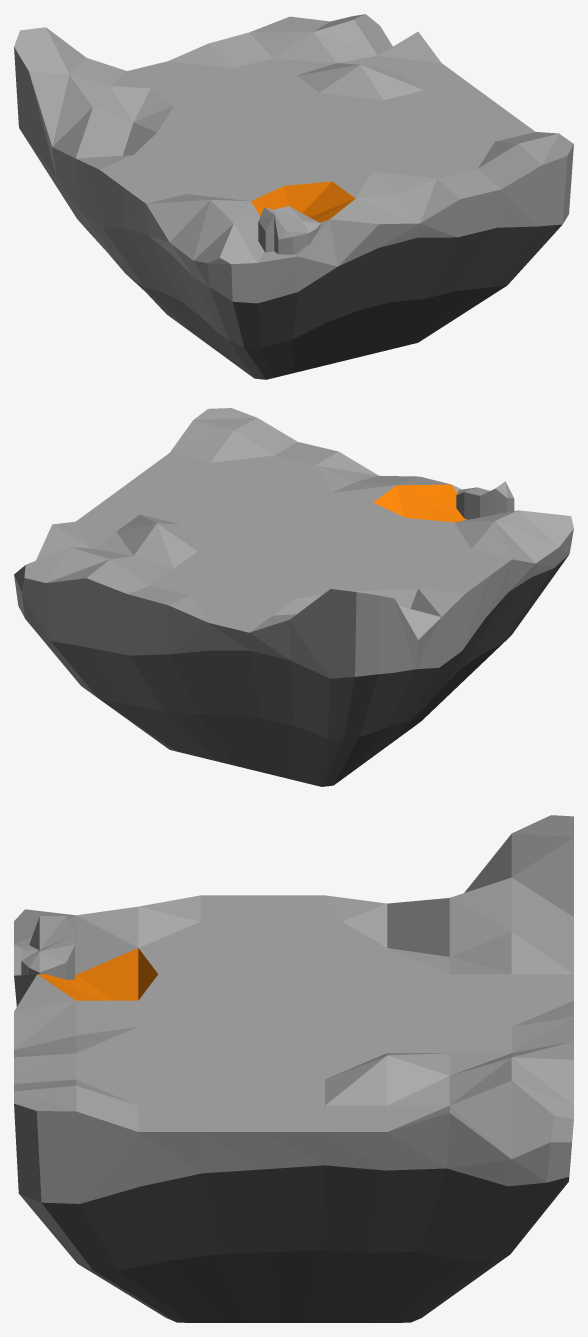
Rendered from Isl_4_Base.fbx.
The picture shows the model from 3 angles, top to bottom: view 1: azimuth 30°, elevation 25°; view 2: azimuth 150°, elevation 25°; view 3: azimuth 270°, elevation 25°; orthographic projection. The views are drawn at different scales.
Parts seen in each view (by area): view 1: Isl_4_Base; view 2: Isl_4_Base; view 3: Isl_4_Base.
Boxes of the visible parts, x1,y1,x2,y2 form: Isl_4_Base: (14, 14, 573, 379); Isl_4_Base: (14, 408, 573, 786); Isl_4_Base: (14, 815, 573, 1322).
Size of the model in its own units: 2000 by 2000 by 1354.
Materials: 1 (1 with a texture image).
